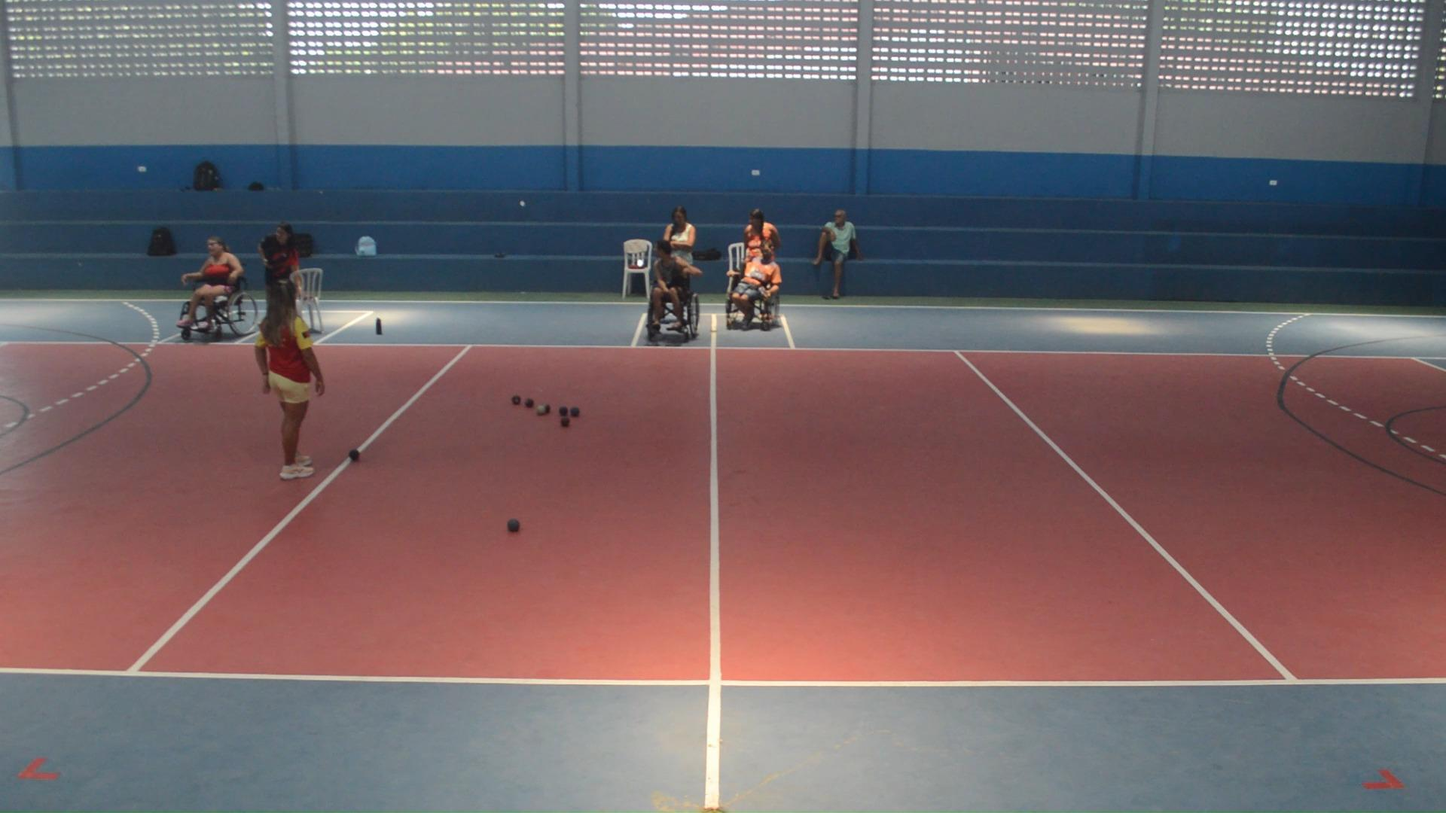blue_ball: (508, 519, 520, 532), (349, 449, 360, 461), (570, 406, 580, 418), (559, 406, 568, 416)
red_ball: (524, 398, 534, 407), (512, 394, 520, 404), (544, 403, 551, 413)
white_ball: (535, 406, 545, 416)
